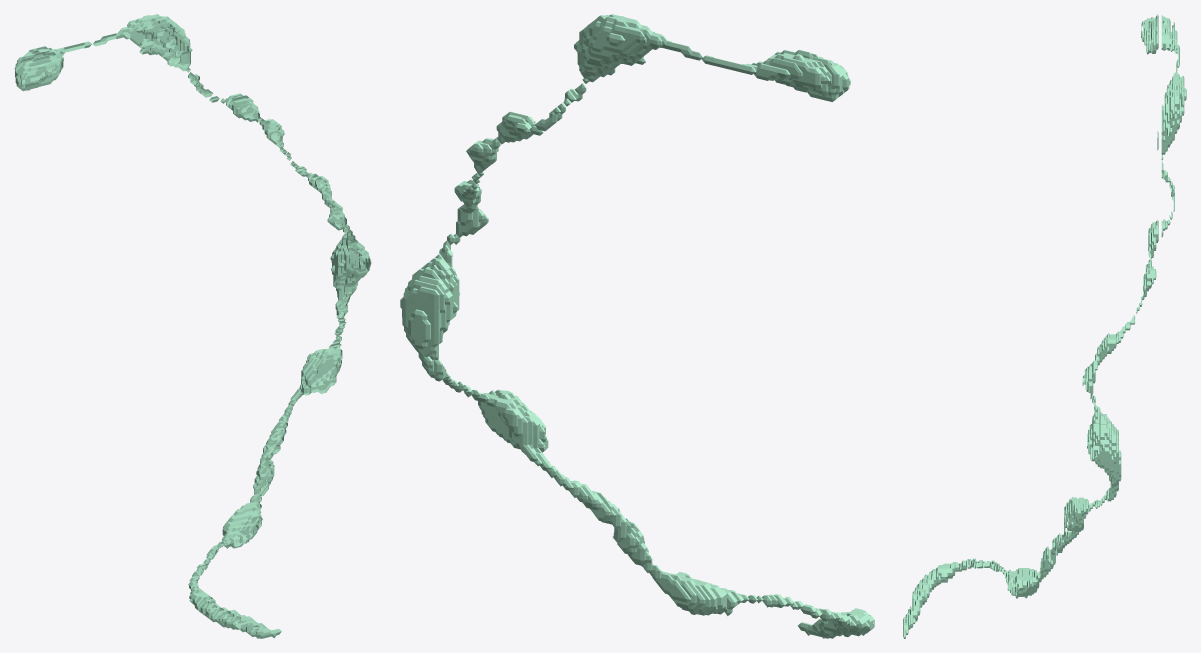
File: SVV_ASIR.gltf
The picture shows the model from 3 angles, left to right: view 1: azimuth 30°, elevation 25°; view 2: azimuth 150°, elevation 25°; view 3: azimuth 270°, elevation 25°; orthographic projection. The views are drawn at different scales.
Visible parts, largest first — view 1: ASIR; view 2: ASIR; view 3: ASIR.
Part boxes in pixels (<box>): ASIR: <box>14,14,371,638</box>; ASIR: <box>400,14,874,638</box>; ASIR: <box>903,14,1186,638</box>.
Size of the model in its own units: 66595 by 101428 by 46626.
